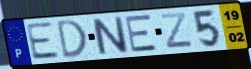5: (191, 8, 222, 48)
D: (55, 18, 89, 61)
E: (24, 21, 62, 62), (123, 13, 159, 54)
N: (90, 15, 131, 56)
Z: (159, 12, 195, 50)
